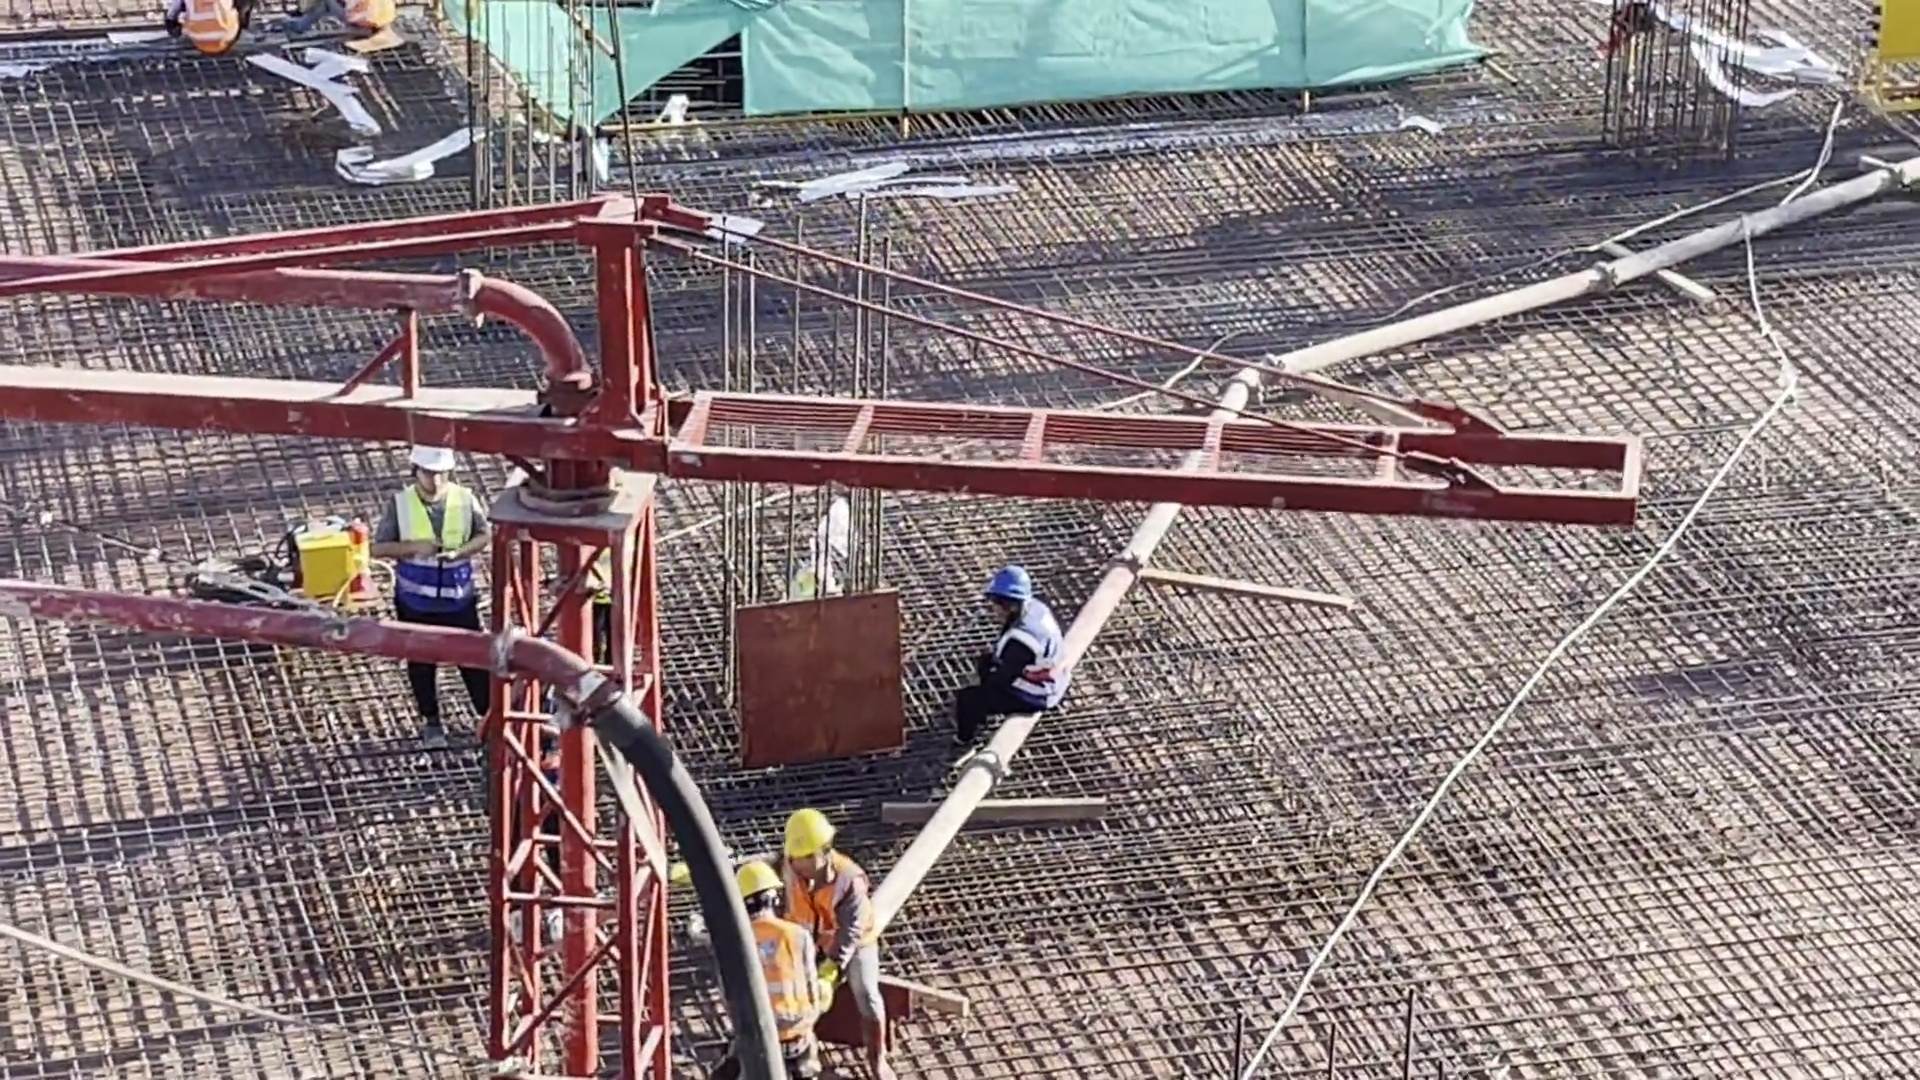ebox: (1862, 1, 1920, 60)
helmet: (973, 555, 1035, 596), (781, 817, 828, 862), (407, 442, 458, 479), (734, 871, 792, 900)
person: (369, 446, 503, 737), (771, 810, 886, 1080), (941, 563, 1067, 753), (736, 862, 824, 1080), (277, 1, 403, 42), (167, 1, 254, 56)
vest: (735, 915, 819, 1037), (396, 496, 473, 615), (992, 610, 1065, 701), (788, 867, 869, 948), (180, 1, 240, 51), (340, 1, 390, 28)
